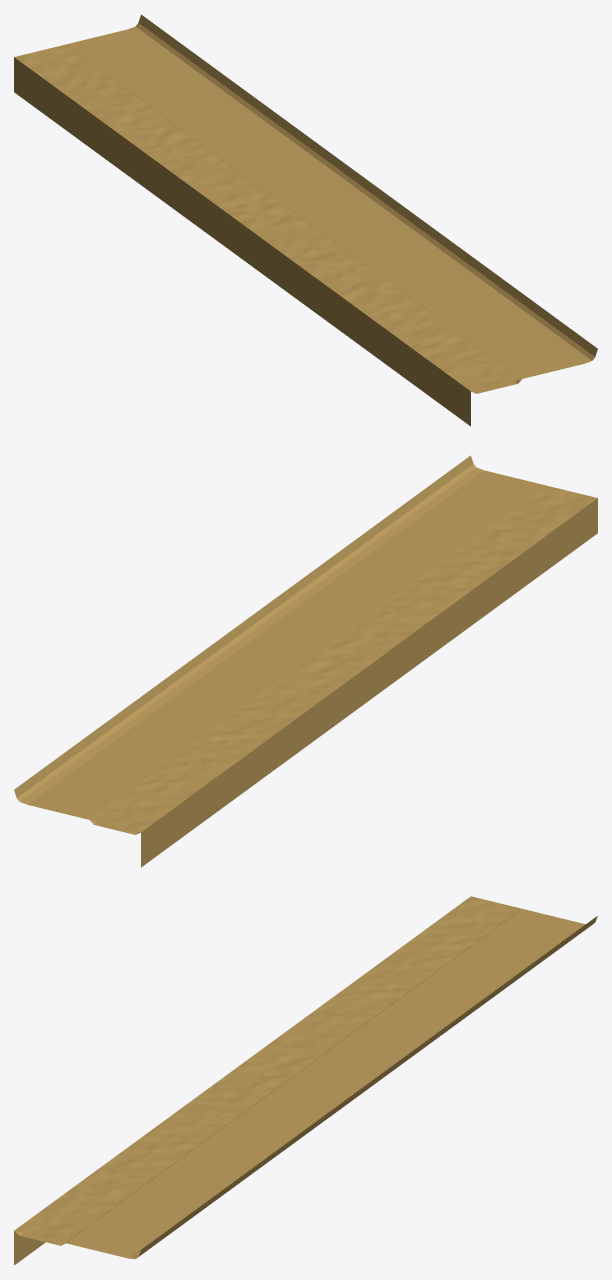
The model's file is ground_zero.fbx.
3 renders of one model, top to bottom at view 1: azimuth 30°, elevation 25°; view 2: azimuth 150°, elevation 25°; view 3: azimuth 330°, elevation 25°, orthographic.
Visible parts, largest first — view 1: Ground_zero, Ground_zero.001; view 2: Ground_zero, Ground_zero.001; view 3: Ground_zero, Ground_zero.001.
Boxes of the visible parts, x1,y1,x2,y2 form: Ground_zero: (14, 14, 597, 426); Ground_zero.001: (14, 44, 521, 391); Ground_zero: (14, 455, 597, 867); Ground_zero.001: (90, 485, 597, 832); Ground_zero: (14, 909, 597, 1265); Ground_zero.001: (14, 896, 521, 1242).
Size of the model in its own units: 1517 by 534 by 9442.
